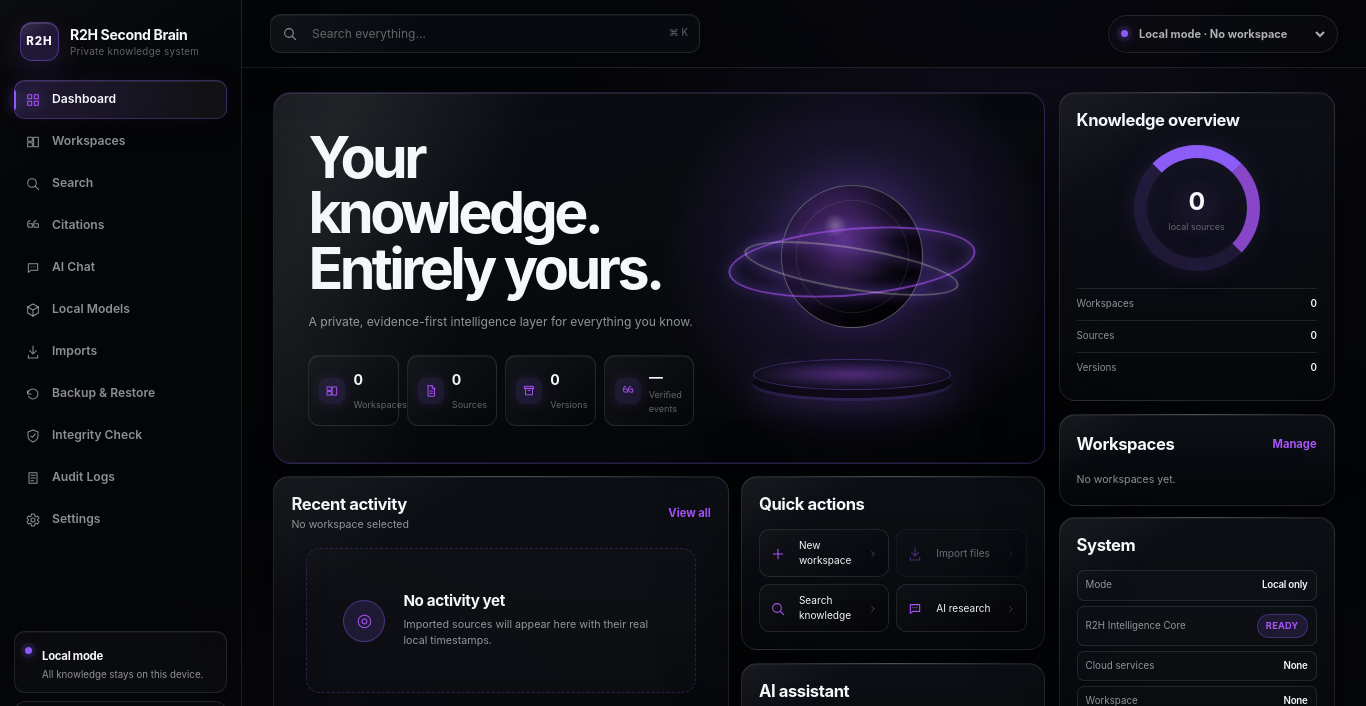
Scenario: R2H Second Brain desktop interface › creates a workspace and reports a command error without losing the form
This screenshot has width=1366, height=706.
Click the button "Workspaces": coordinates (120, 142) [14,122,227,161]
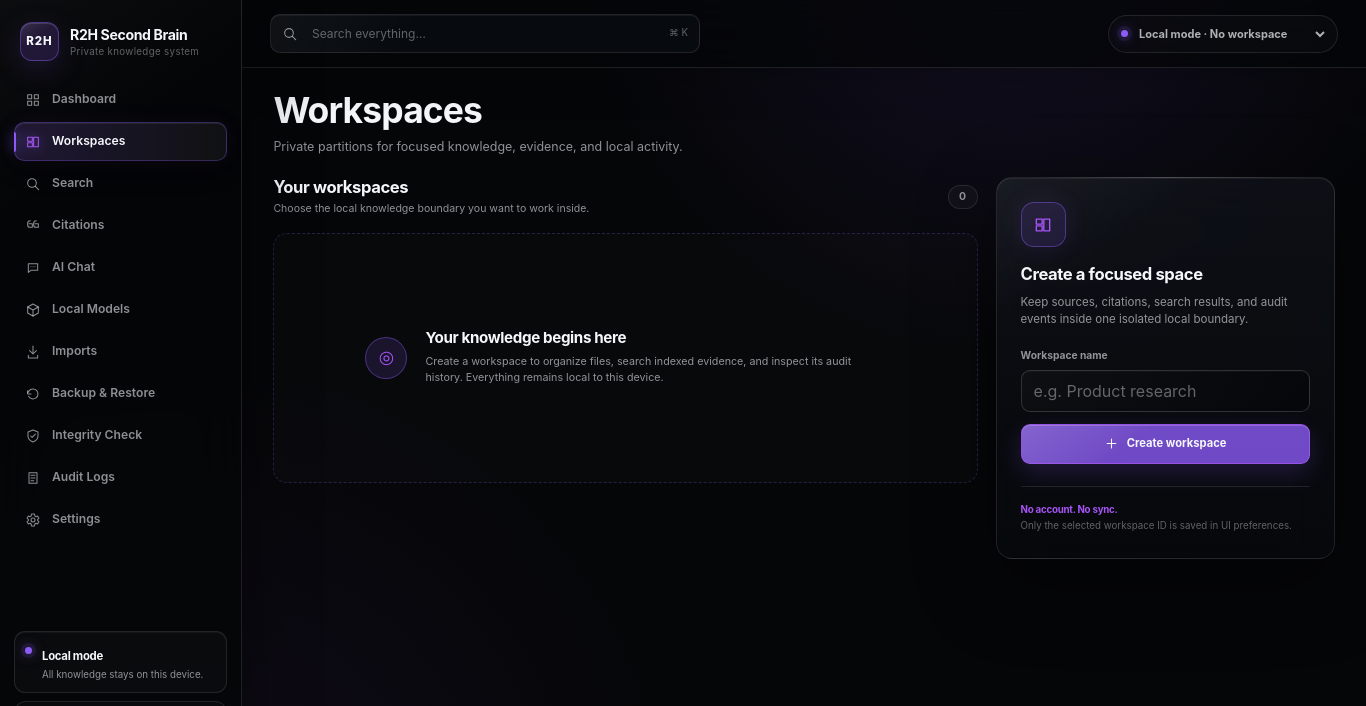
Click the button "Create workspace": coordinates (1165, 444) [1020,424,1310,464]
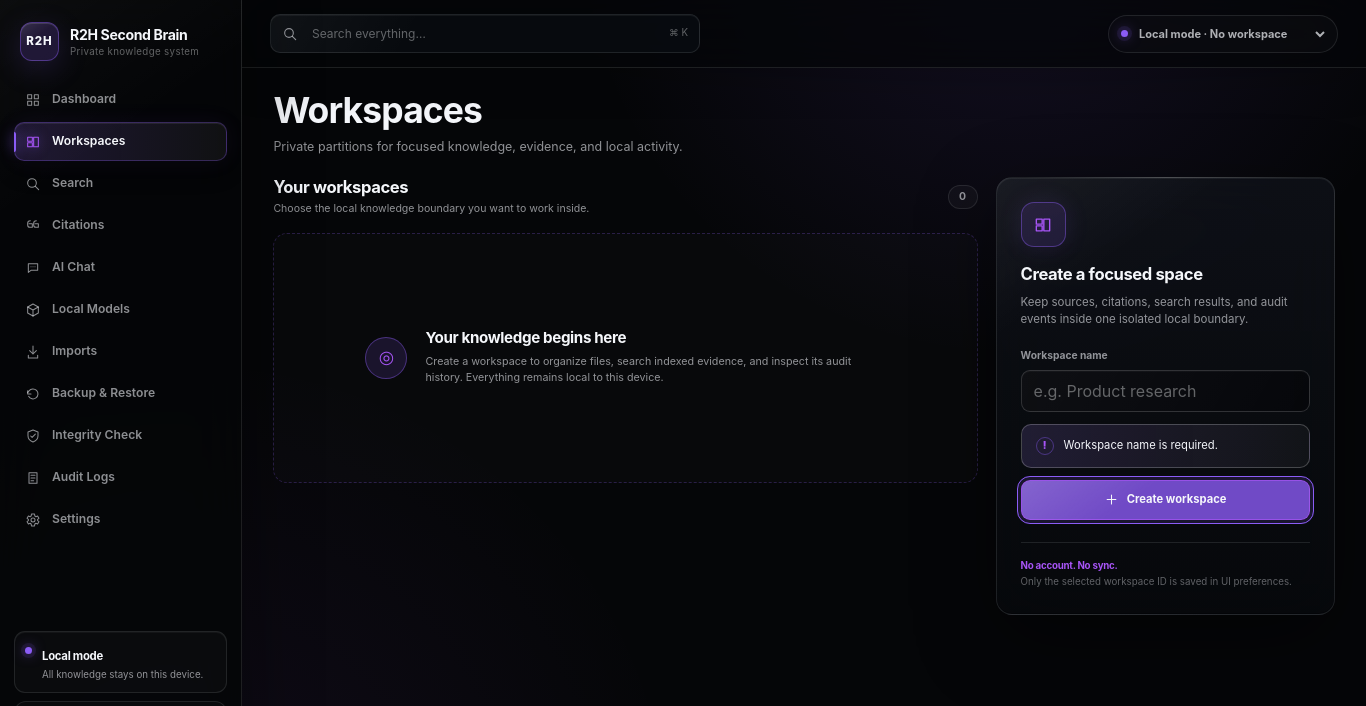
Expected: the text "Workspace name is required." is shown, [1064,437,1218,453]
In the field labelled "Workspace name": coordinates (1165, 391) [1020,370,1310,412], type "Arabic Research"
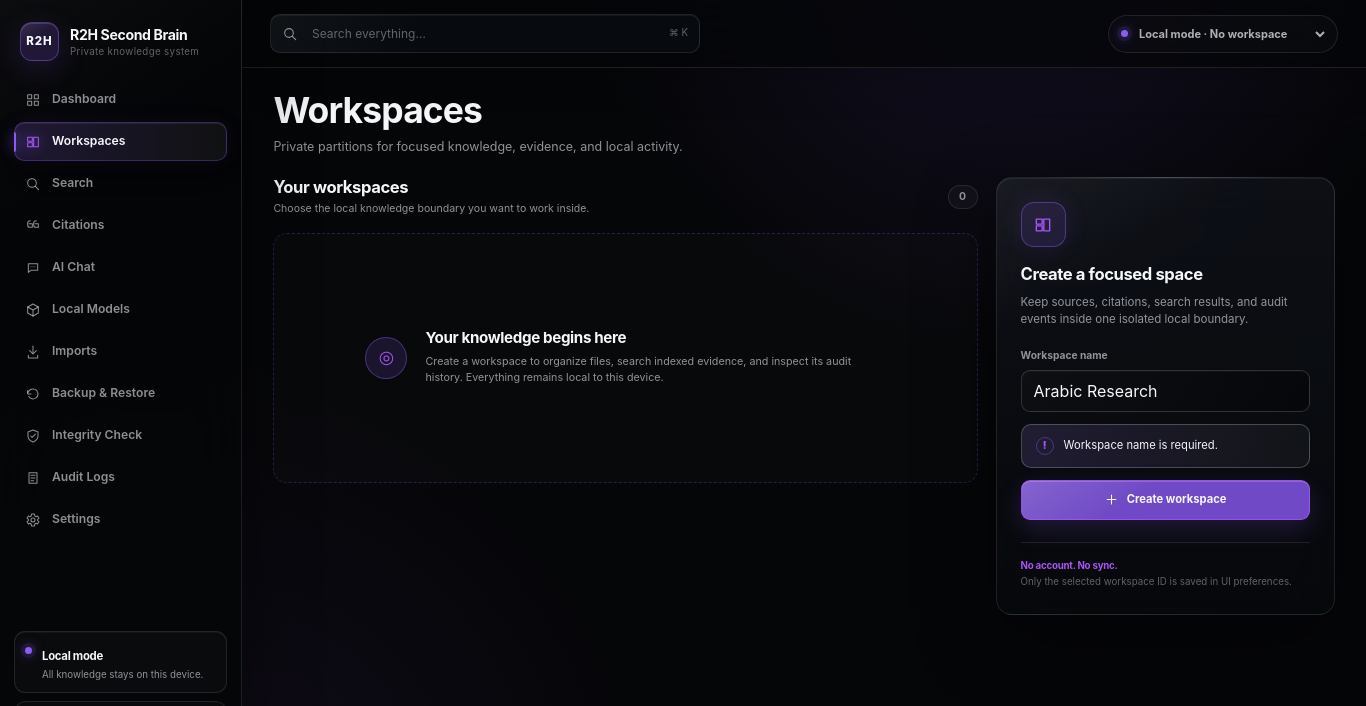
Click the button "Create workspace": coordinates (1165, 500) [1020,480,1310,520]
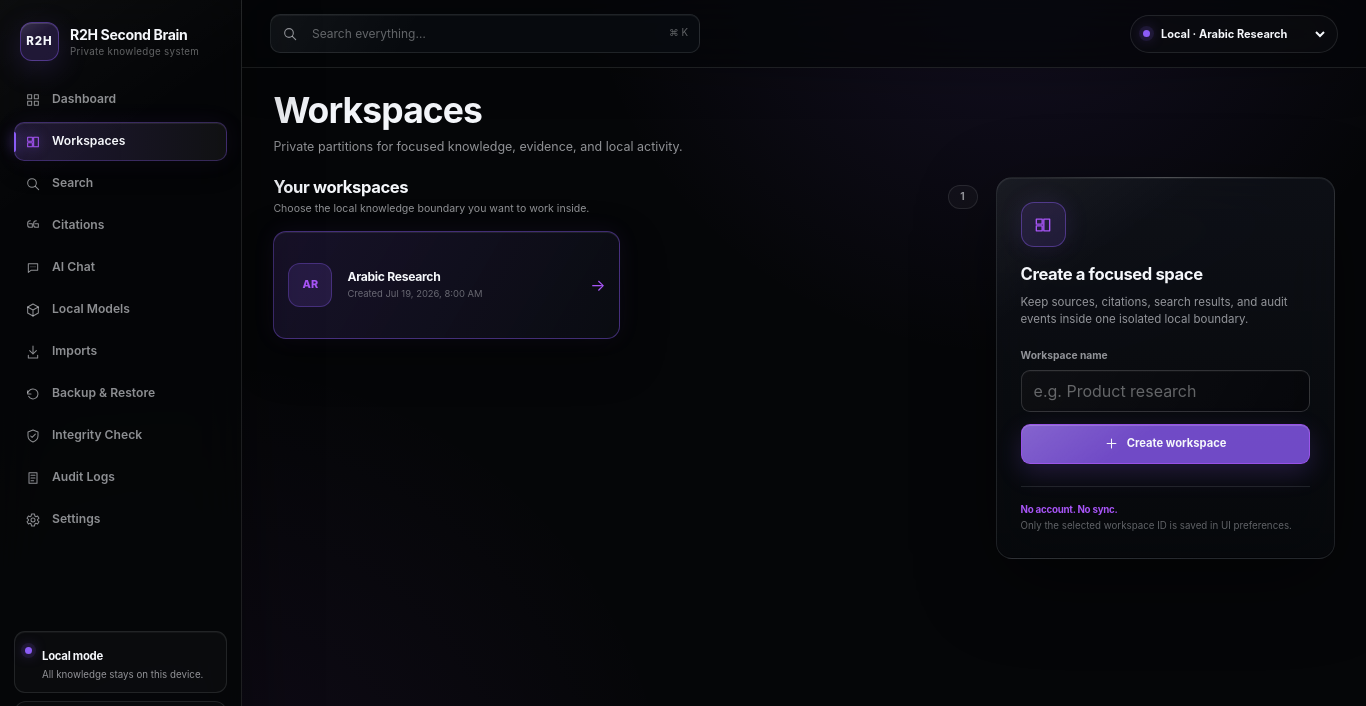
Expected: the text "Arabic Research" is shown, [347,269,440,284]
In the field labelled "Workspace name": coordinates (1165, 391) [1020,370,1310,412], type "Again"
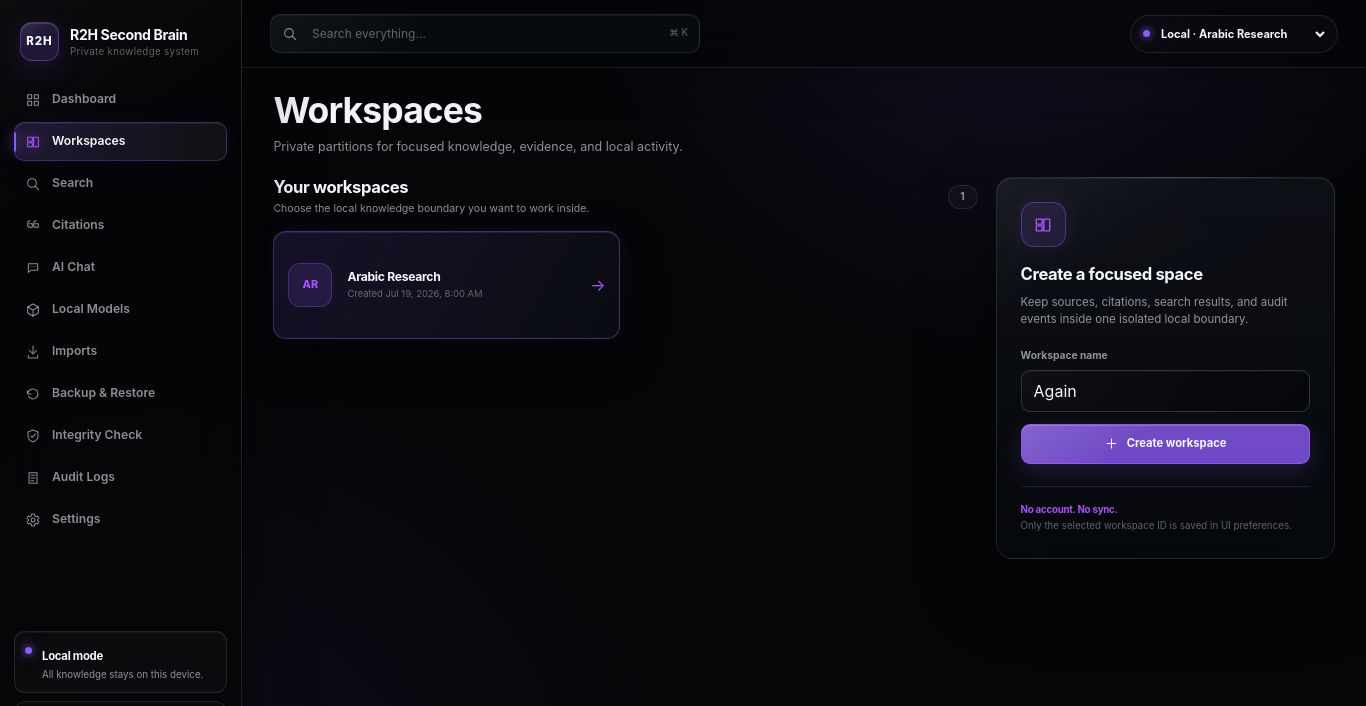
Click the button "Create workspace": coordinates (1165, 444) [1020,424,1310,464]
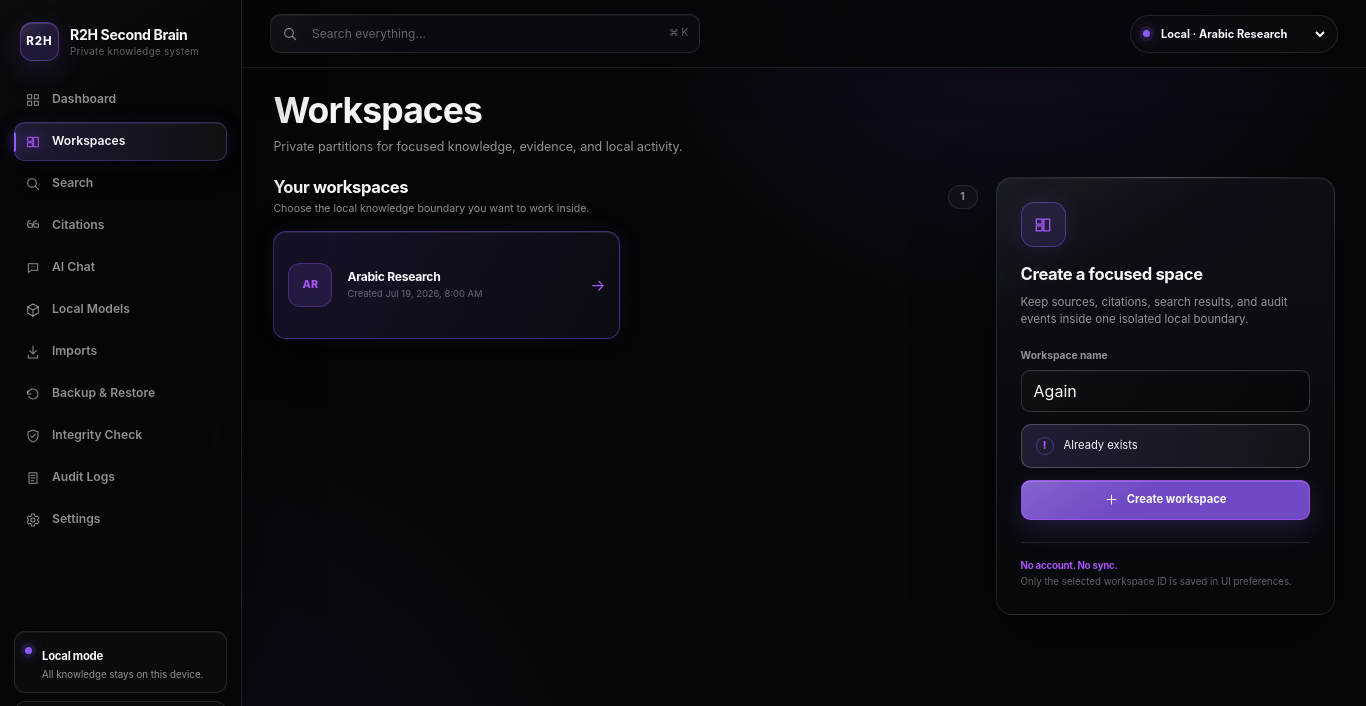
Expected: the message shows "Already exists", [1064,438,1138,452]
